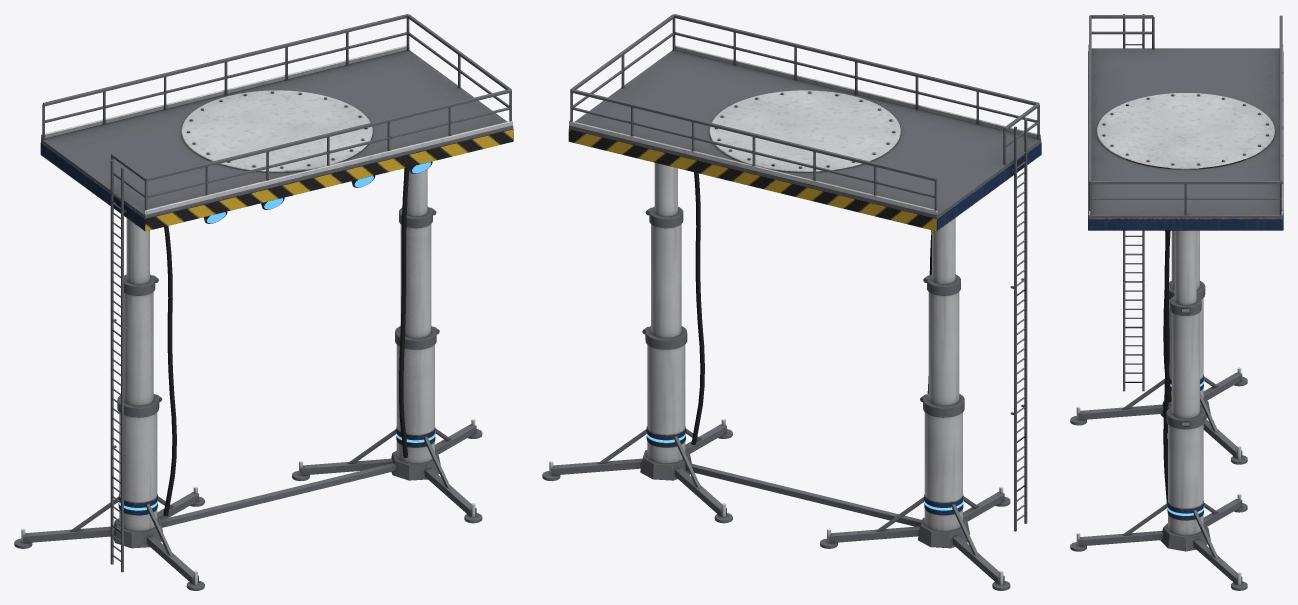
File: 整備庫_27_升降工作台.glb
The picture shows the model from 3 angles, left to right: view 1: azimuth 30°, elevation 25°; view 2: azimuth 150°, elevation 25°; view 3: azimuth 270°, elevation 25°; orthographic projection. The views are drawn at different scales.
Parts seen in each view (by area): view 1: Platform_Mesh; view 2: Platform_Mesh; view 3: Platform_Mesh.
Part boxes in pixels (left/top/right/bottom): Platform_Mesh: left=14, top=14, right=513, bottom=590; Platform_Mesh: left=542, top=14, right=1041, bottom=590; Platform_Mesh: left=1070, top=14, right=1283, bottom=590.
Bounding box in the file's own units: 15.44 × 13.14 × 6.57.
2 materials, 1 textured.
